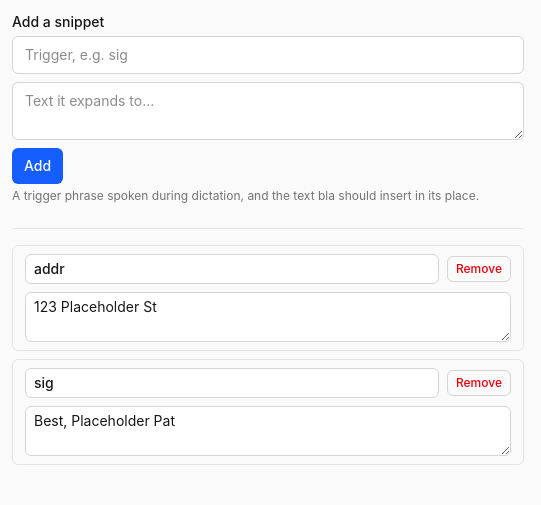
SnippetsTab (AC-54: remove a snippet) › keeps the snippet in the list and shows a kind-only inline error when remove_snippet rejects
Click the button with test id "snippet-remove-2".
click(479, 269)  # box [447,256,511,282]
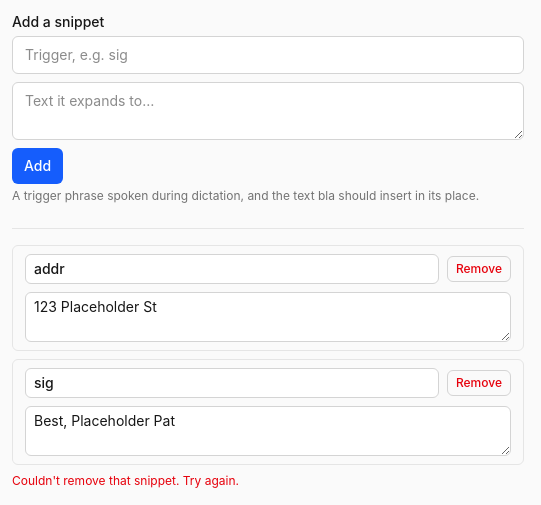
Expected: the list item with test id "snippet-2" is shown, [12,245,524,351]
Result: the text "Couldn't remove that snippet. Try again." is shown at [12,473,239,488]
